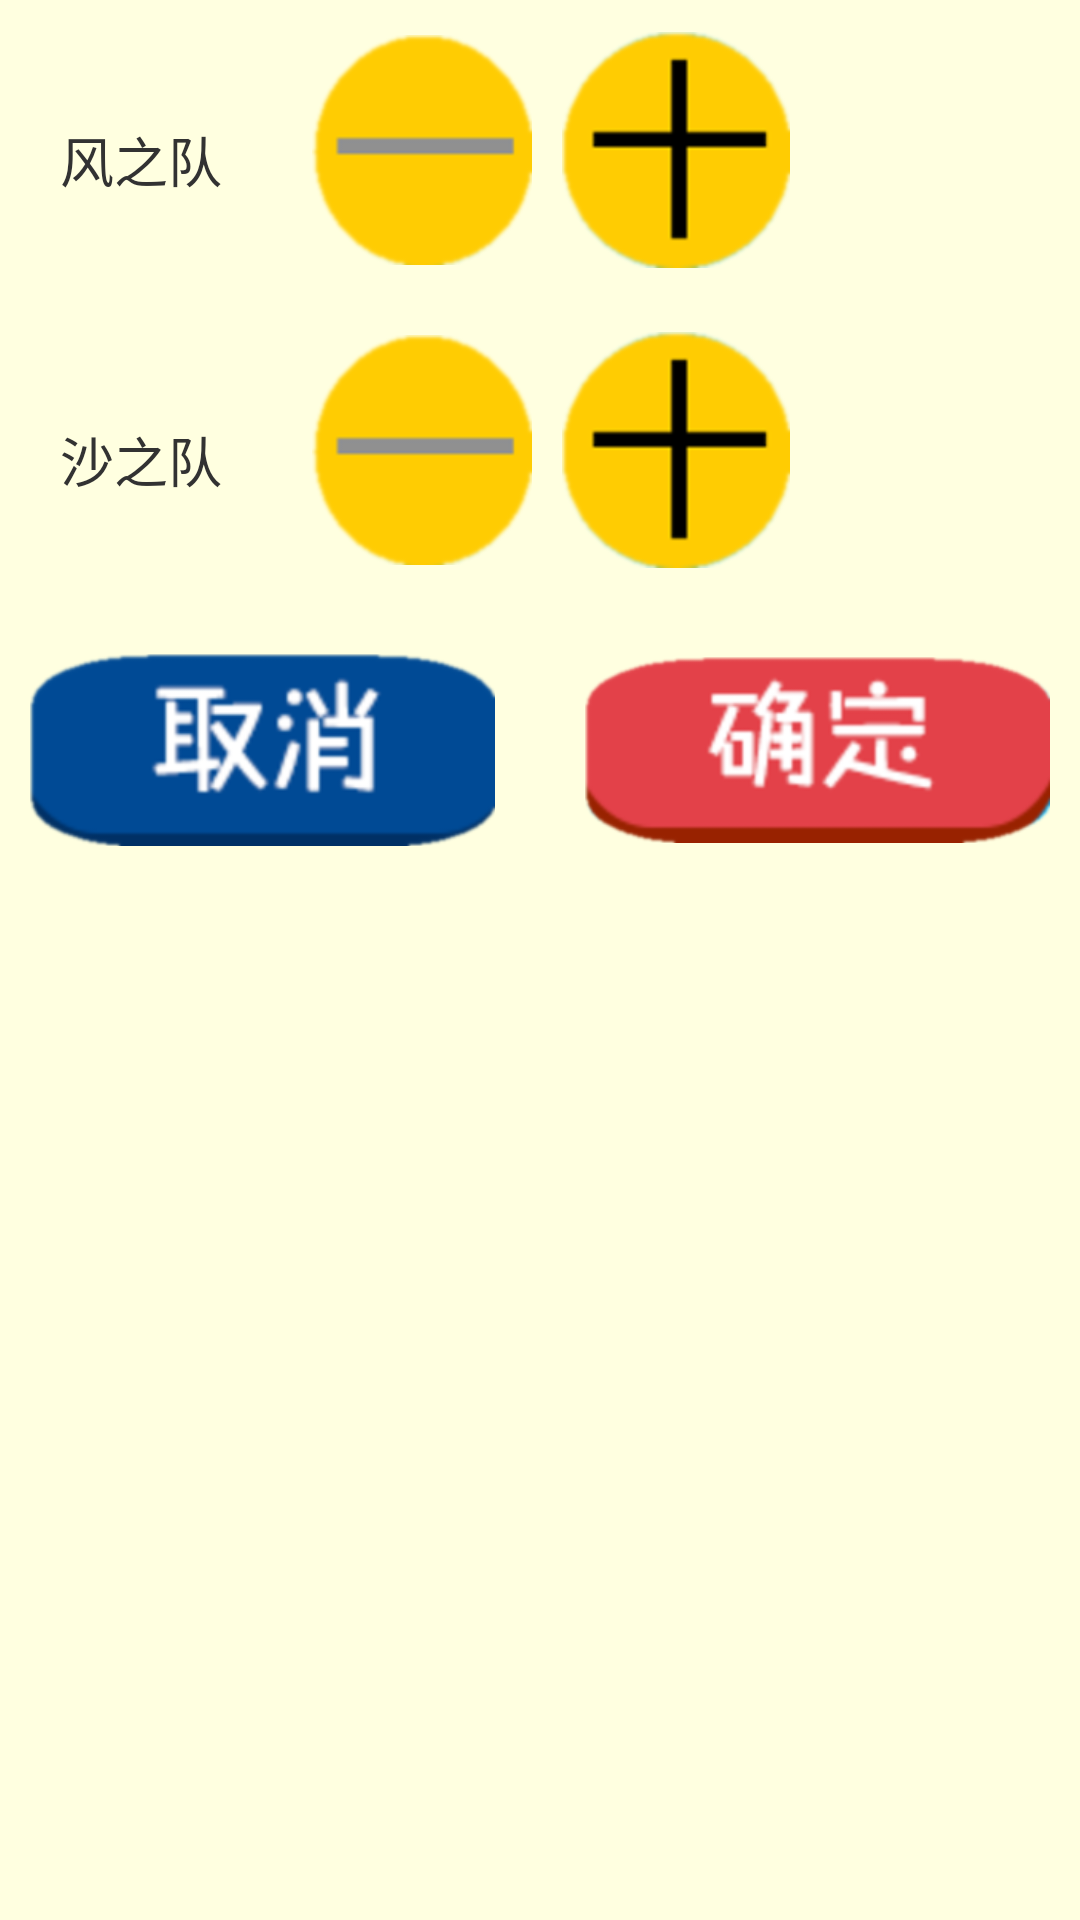

Screen size 1080*1920. Icon name, then its center in pixels as (x,y):
add: (676,150), (676,450)
decend: (422,150), (422,450)
